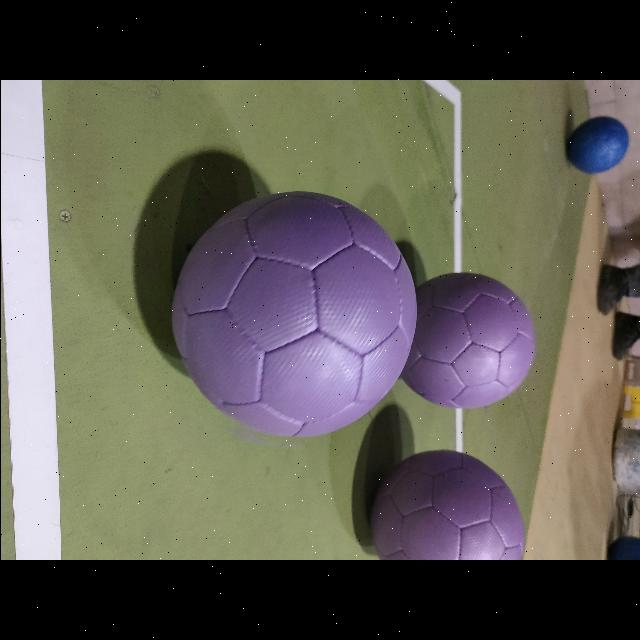B: (563, 114, 631, 178)
P: (172, 193, 416, 437), (404, 273, 534, 409), (370, 450, 524, 560)
